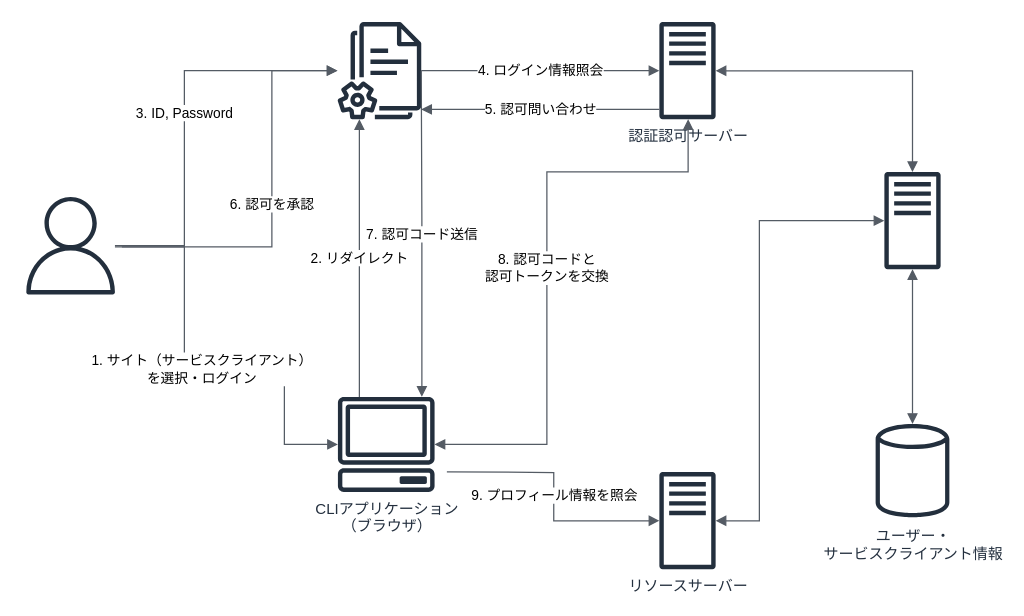
Some shapes in this 1024 by 616 pixel diagram are drawn without their labels. The centre of each missing label's shape, as x and y in pixels:
"データベースサーバー" goes at pixel 912 220.
"認証認可画面" goes at pixel 379 70.
